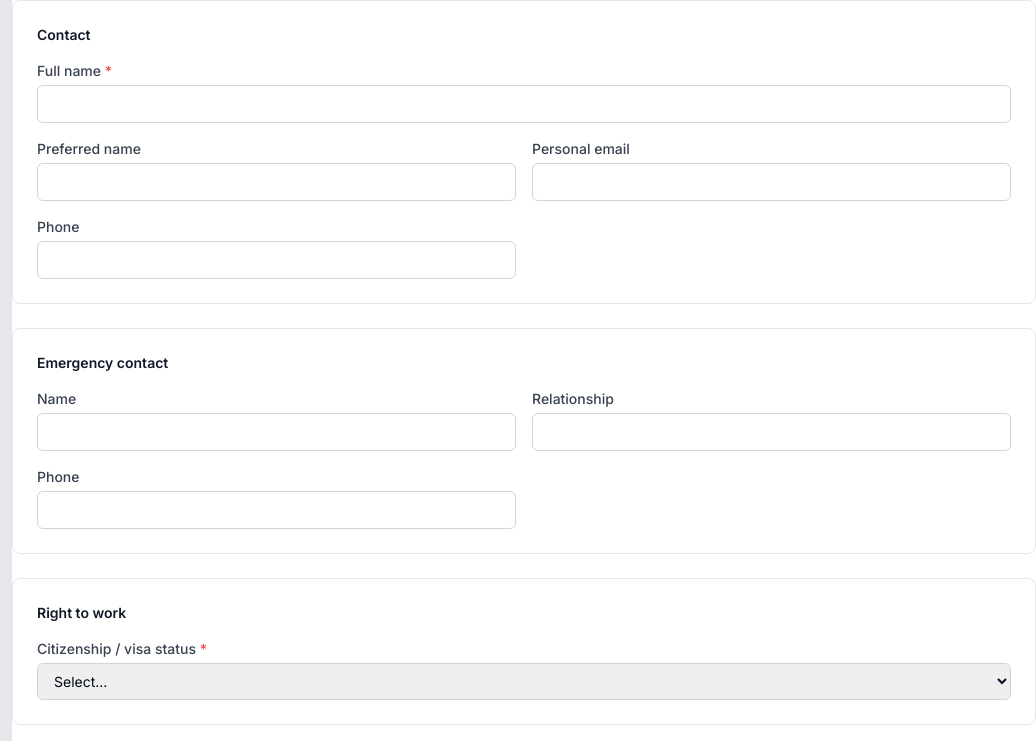
Scenario: StaffDetailsForm — visa fields visibility › shows visa fields when Visa Holder is selected
Select "Visa Holder" in the dropdown named "citizenship_status" at (524, 682), box [37,663,1011,700]
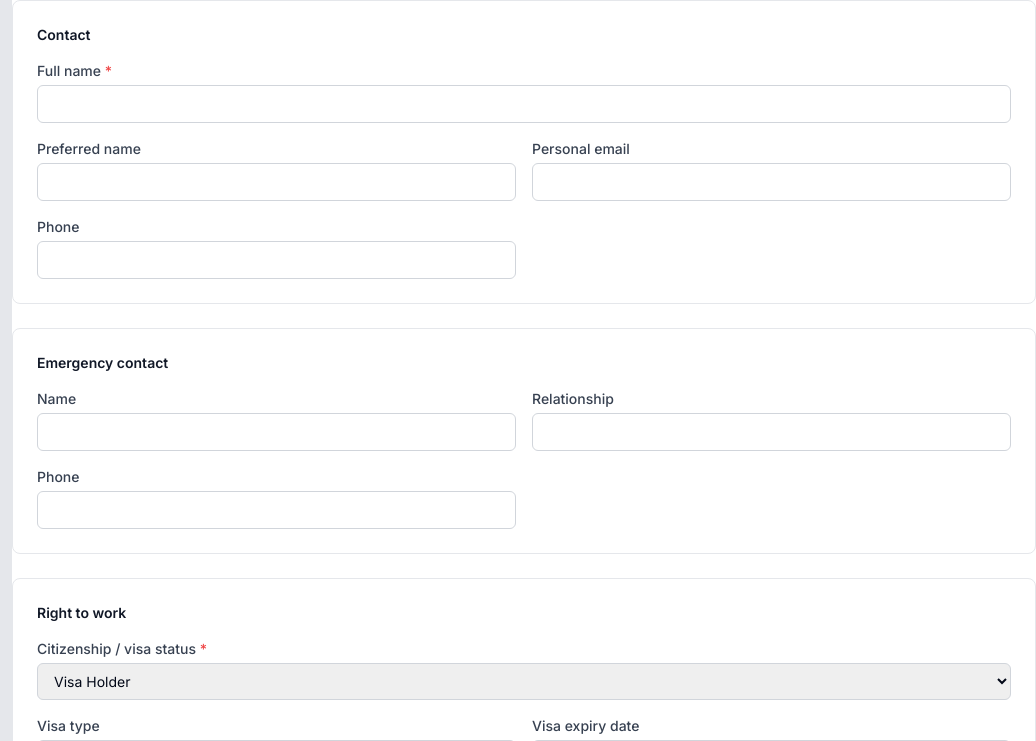
Expected: the text "Visa type" is shown, [37,717,100,734]
Expected: the text "Visa expiry date" is shown, [532,717,640,734]
